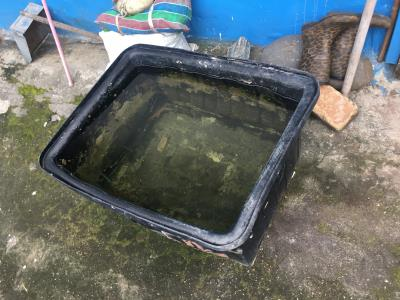box: (34, 40, 324, 267)
plastic_bag: (97, 1, 192, 33)
